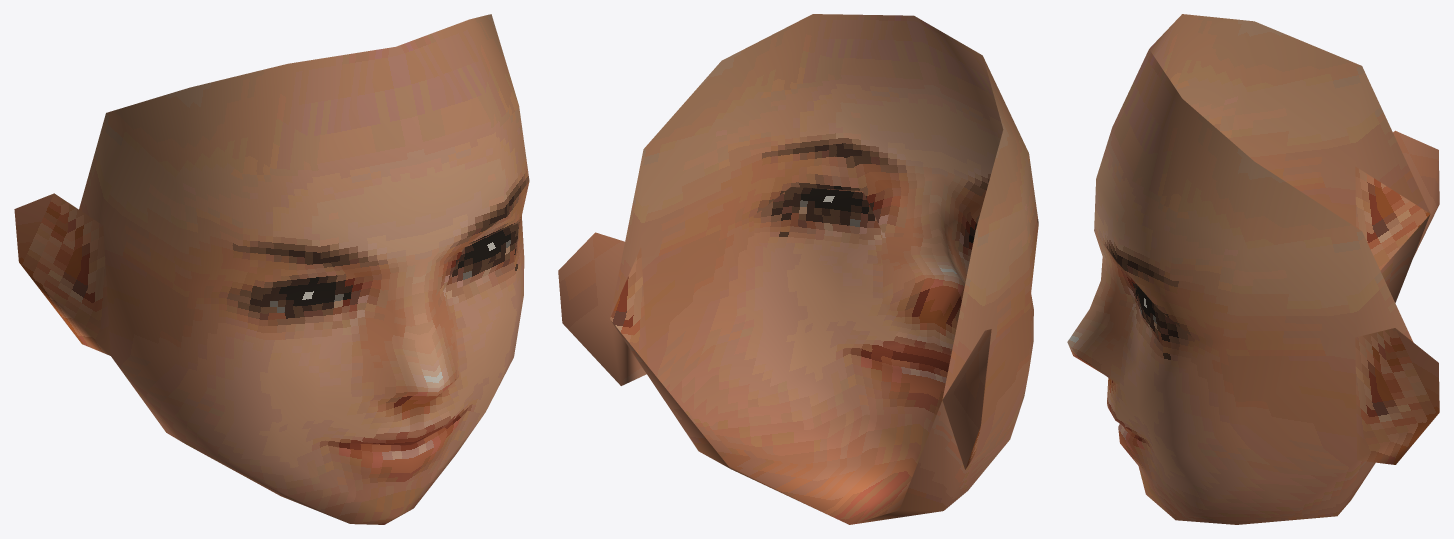
3 views of the same model, side by side, from view 1: azimuth 30°, elevation 25°; view 2: azimuth 150°, elevation 25°; view 3: azimuth 270°, elevation 25° (orthographic). The views are drawn at different scales.
Bounding box in the file's own units: 19.4 × 20.02 × 14.34.
1 material, 1 textured.
